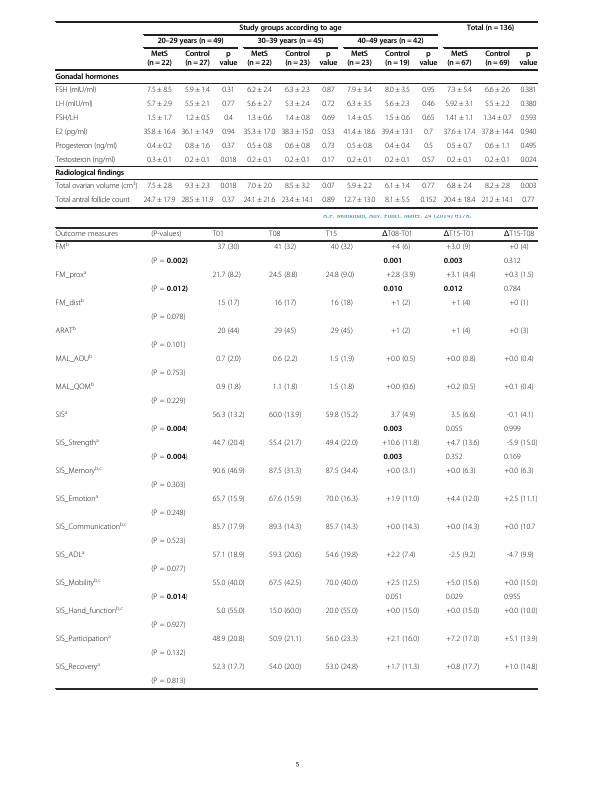borderless: (54, 225, 537, 688), (54, 20, 537, 207)
cell: (238, 24, 342, 33), (55, 180, 138, 191), (55, 521, 128, 532), (55, 605, 124, 616), (256, 37, 325, 47), (55, 196, 131, 205), (156, 37, 224, 47), (356, 37, 424, 47), (55, 72, 120, 82), (55, 141, 118, 151), (55, 169, 125, 178), (55, 633, 112, 644), (55, 155, 116, 165), (55, 230, 119, 239), (55, 465, 103, 476), (55, 577, 102, 588), (146, 50, 173, 69), (184, 50, 211, 69), (246, 50, 273, 69), (284, 50, 311, 69), (346, 50, 373, 69), (384, 50, 411, 69), (446, 50, 473, 69), (484, 50, 511, 69), (55, 661, 101, 672), (55, 437, 100, 448), (55, 493, 99, 504), (466, 24, 515, 33), (55, 381, 95, 392), (55, 85, 97, 95), (55, 353, 93, 364), (55, 99, 94, 109), (318, 50, 338, 69), (418, 50, 438, 69), (518, 50, 538, 69), (219, 50, 238, 69), (55, 269, 87, 280), (150, 257, 189, 266), (150, 285, 189, 294), (150, 425, 189, 434), (381, 439, 420, 448), (150, 453, 189, 462), (150, 593, 189, 602), (142, 127, 176, 137), (180, 127, 214, 137), (242, 127, 276, 137), (280, 127, 314, 137), (342, 127, 376, 137), (380, 127, 414, 137), (442, 127, 476, 137), (480, 127, 514, 137), (55, 127, 88, 137), (55, 297, 85, 308), (55, 549, 85, 560), (150, 313, 186, 322), (150, 341, 186, 350), (150, 369, 186, 378), (150, 397, 186, 406), (150, 481, 186, 490), (150, 509, 186, 518), (150, 537, 186, 546), (150, 565, 186, 574), (150, 621, 186, 630), (150, 649, 186, 658), (150, 677, 186, 686), (211, 411, 246, 420), (211, 439, 246, 448), (445, 439, 480, 448), (211, 467, 246, 476), (211, 495, 246, 504), (385, 495, 420, 504), (445, 495, 480, 504), (503, 495, 538, 504), (211, 523, 246, 532), (385, 523, 420, 532), (445, 523, 480, 532), (211, 551, 246, 560), (211, 579, 246, 588), (385, 579, 420, 588), (445, 579, 480, 588), (503, 579, 538, 588), (385, 607, 420, 616), (445, 607, 480, 616), (503, 607, 538, 616), (211, 635, 246, 644), (385, 635, 420, 644), (445, 635, 480, 644), (503, 635, 538, 644), (211, 663, 246, 672), (385, 663, 420, 672), (445, 663, 480, 672), (503, 663, 538, 672), (444, 113, 475, 123), (482, 113, 513, 123), (142, 196, 176, 205), (180, 196, 214, 205), (242, 196, 276, 205), (280, 196, 314, 205), (342, 196, 376, 205), (442, 196, 476, 205), (480, 196, 514, 205), (268, 411, 302, 420), (325, 411, 359, 420), (268, 439, 302, 448), (325, 439, 359, 448), (268, 467, 302, 476), (325, 467, 359, 476), (268, 495, 302, 504), (325, 495, 359, 504), (268, 523, 302, 532), (325, 523, 359, 532), (268, 551, 302, 560), (325, 551, 359, 560), (268, 579, 302, 588), (325, 579, 359, 588), (268, 607, 302, 616), (325, 607, 359, 616), (268, 635, 302, 644), (325, 635, 359, 644), (268, 663, 302, 672), (325, 663, 359, 672), (444, 99, 474, 109), (381, 230, 414, 239), (503, 523, 536, 532), (150, 230, 182, 239), (443, 230, 475, 239), (503, 230, 535, 239), (445, 271, 477, 280), (503, 271, 535, 280), (445, 355, 477, 364), (503, 355, 535, 364), (445, 383, 477, 392), (503, 383, 535, 392), (506, 439, 538, 448), (445, 467, 477, 476), (503, 467, 535, 476), (211, 271, 242, 280), (385, 271, 416, 280), (385, 355, 416, 364), (385, 383, 416, 392), (385, 467, 416, 476), (385, 551, 416, 560), (215, 607, 246, 616), (146, 85, 173, 95), (184, 85, 211, 95), (246, 85, 273, 95), (284, 85, 311, 95), (346, 85, 373, 95), (384, 85, 411, 95), (446, 85, 473, 95), (484, 85, 511, 95), (146, 99, 173, 109), (184, 99, 211, 109), (246, 99, 273, 109), (284, 99, 311, 109), (346, 99, 373, 109), (384, 99, 411, 109), (484, 99, 511, 109), (146, 113, 173, 123), (184, 113, 211, 123), (246, 113, 273, 123), (284, 113, 311, 123), (346, 113, 373, 123), (384, 113, 411, 123), (146, 141, 173, 151), (184, 141, 211, 151), (246, 141, 273, 151), (284, 141, 311, 151), (346, 141, 373, 151), (384, 141, 411, 151), (446, 141, 473, 151), (484, 141, 511, 151), (146, 155, 173, 165), (184, 155, 211, 165), (246, 155, 273, 165), (284, 155, 311, 165), (346, 155, 373, 165), (384, 155, 411, 165), (446, 155, 473, 165), (484, 155, 511, 165), (268, 271, 298, 280), (325, 271, 355, 280), (506, 411, 535, 420), (448, 551, 477, 560), (506, 551, 535, 560), (146, 182, 173, 191), (184, 182, 211, 191), (246, 182, 273, 191), (284, 182, 311, 191), (346, 182, 373, 191), (384, 182, 411, 191), (446, 182, 473, 191), (484, 182, 511, 191), (384, 196, 411, 205), (215, 355, 242, 364), (328, 355, 355, 364), (215, 383, 242, 392), (328, 383, 355, 392), (450, 411, 477, 420), (55, 325, 77, 336), (55, 113, 79, 123), (445, 243, 471, 252), (272, 355, 298, 364), (272, 383, 298, 392), (390, 411, 416, 420), (273, 243, 297, 252), (330, 243, 354, 252), (273, 299, 297, 308), (330, 299, 354, 308), (273, 327, 297, 336), (330, 327, 354, 336), (217, 243, 240, 252), (217, 299, 240, 308), (217, 327, 240, 336), (390, 243, 411, 252), (508, 243, 529, 252), (390, 299, 411, 308), (450, 299, 471, 308), (508, 299, 529, 308), (390, 327, 411, 336), (450, 327, 471, 336), (508, 327, 529, 336), (519, 85, 537, 95), (519, 99, 537, 109), (519, 113, 537, 123), (519, 127, 537, 137), (519, 141, 537, 151), (219, 155, 237, 165), (519, 155, 537, 165), (382, 257, 403, 265), (382, 285, 403, 293), (382, 425, 403, 433), (382, 453, 403, 461), (55, 241, 70, 252), (219, 182, 237, 191), (519, 182, 537, 191), (419, 196, 437, 205), (503, 257, 521, 266), (503, 285, 521, 294), (445, 425, 463, 434), (503, 425, 521, 434), (445, 453, 463, 462), (503, 453, 521, 462), (385, 593, 403, 602), (445, 593, 463, 602), (503, 593, 521, 602), (443, 257, 463, 265), (443, 285, 463, 293), (221, 85, 236, 95), (321, 85, 336, 95), (321, 113, 336, 123), (421, 113, 436, 123), (321, 127, 336, 137), (221, 141, 236, 151), (321, 141, 336, 151), (321, 155, 336, 165), (55, 409, 68, 420), (421, 85, 435, 95), (221, 99, 235, 109), (321, 99, 335, 109), (421, 99, 435, 109), (221, 127, 235, 137), (421, 155, 435, 165), (321, 182, 336, 191), (321, 196, 336, 205), (421, 182, 435, 191), (221, 196, 235, 205), (521, 196, 535, 205), (211, 230, 225, 239), (268, 230, 281, 239), (325, 230, 338, 239), (223, 113, 234, 123), (423, 127, 434, 137), (423, 141, 434, 151)
